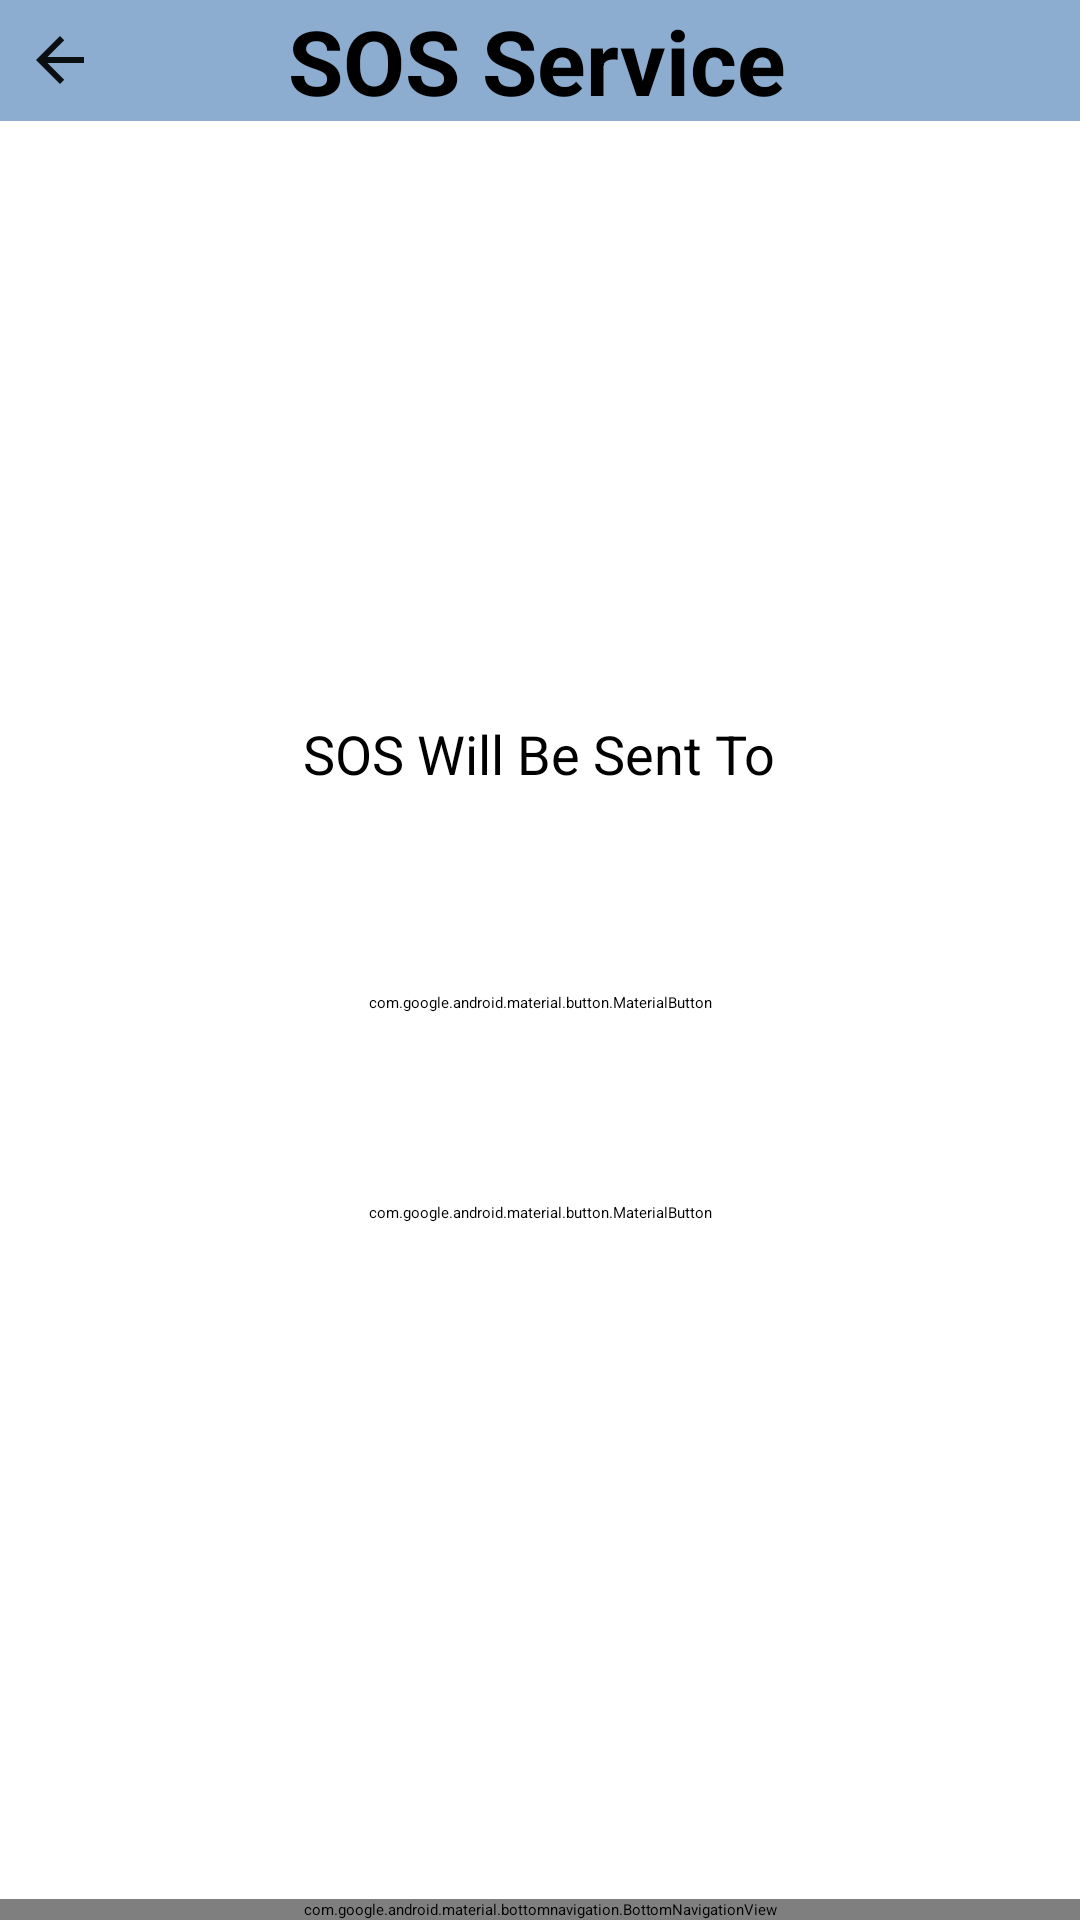

Icon click points for this 1080x1920 phone screenshot, format (x=x, y=y):
Back: (x=60, y=60)
